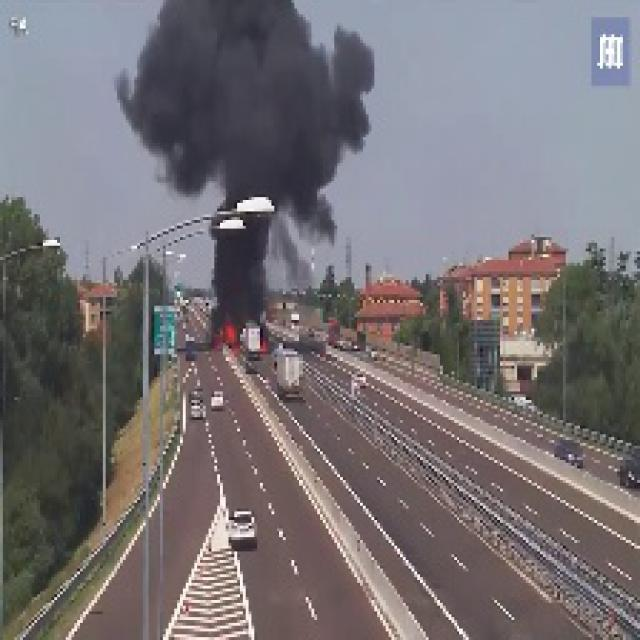fire: (206, 309, 268, 357)
